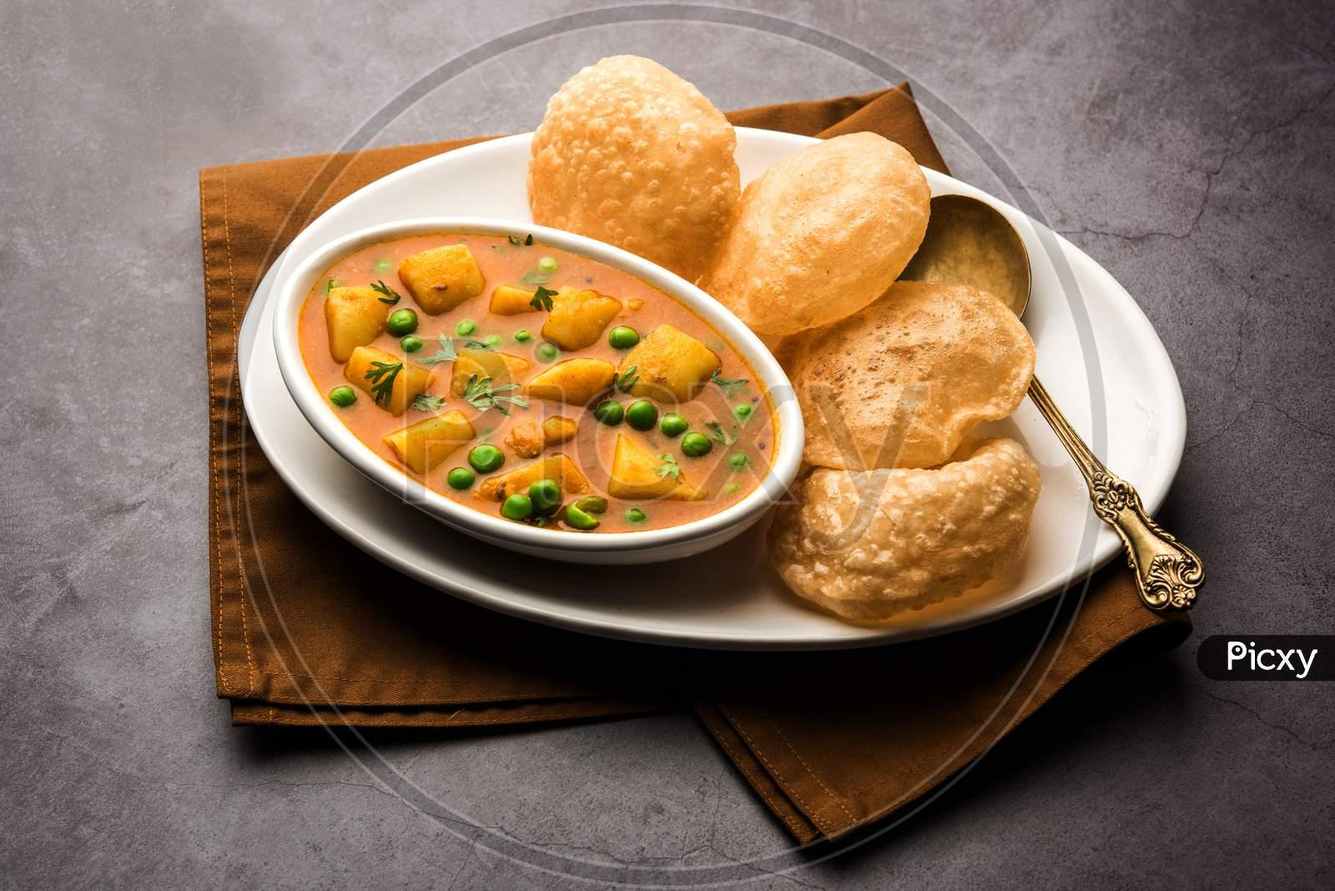puri: (791, 125, 1028, 632), (517, 58, 951, 252)
